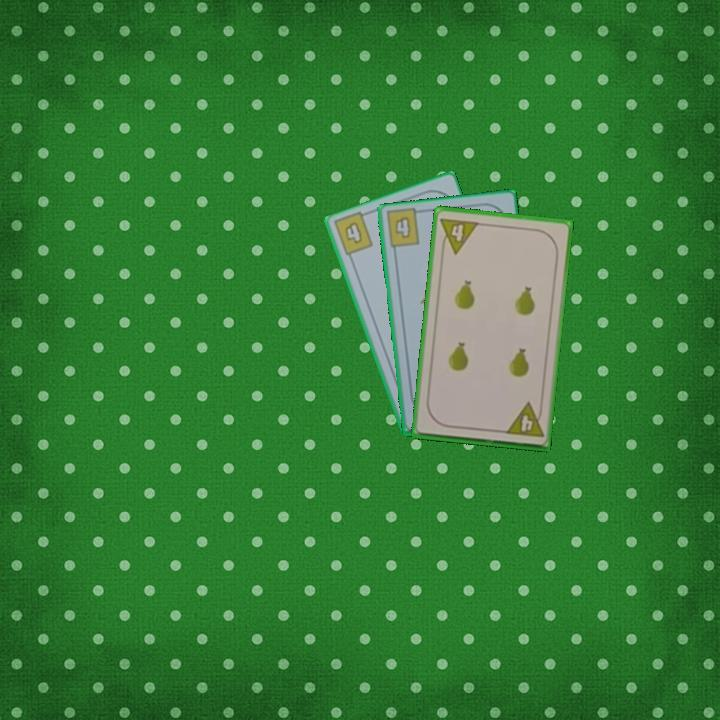4b: (341, 218, 365, 247), (391, 213, 414, 241)
4p: (437, 214, 482, 257), (502, 399, 546, 440)
